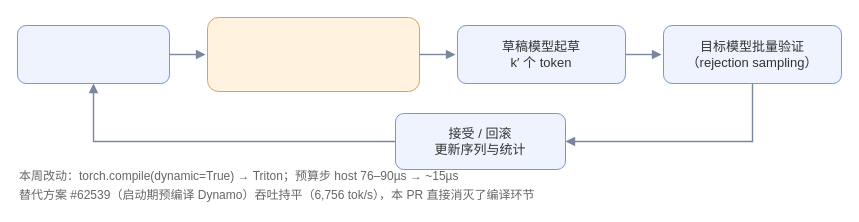
Image size: 859x222. Some labels were removed from this diagram. Each missing label, with the centre of its shape:
"上一步验证结果 （接受长度等）" goes at point 93,54.
"草稿预算选择内核 Adaptive Verification （Triton · 单次启动）" goes at point 313,54.
